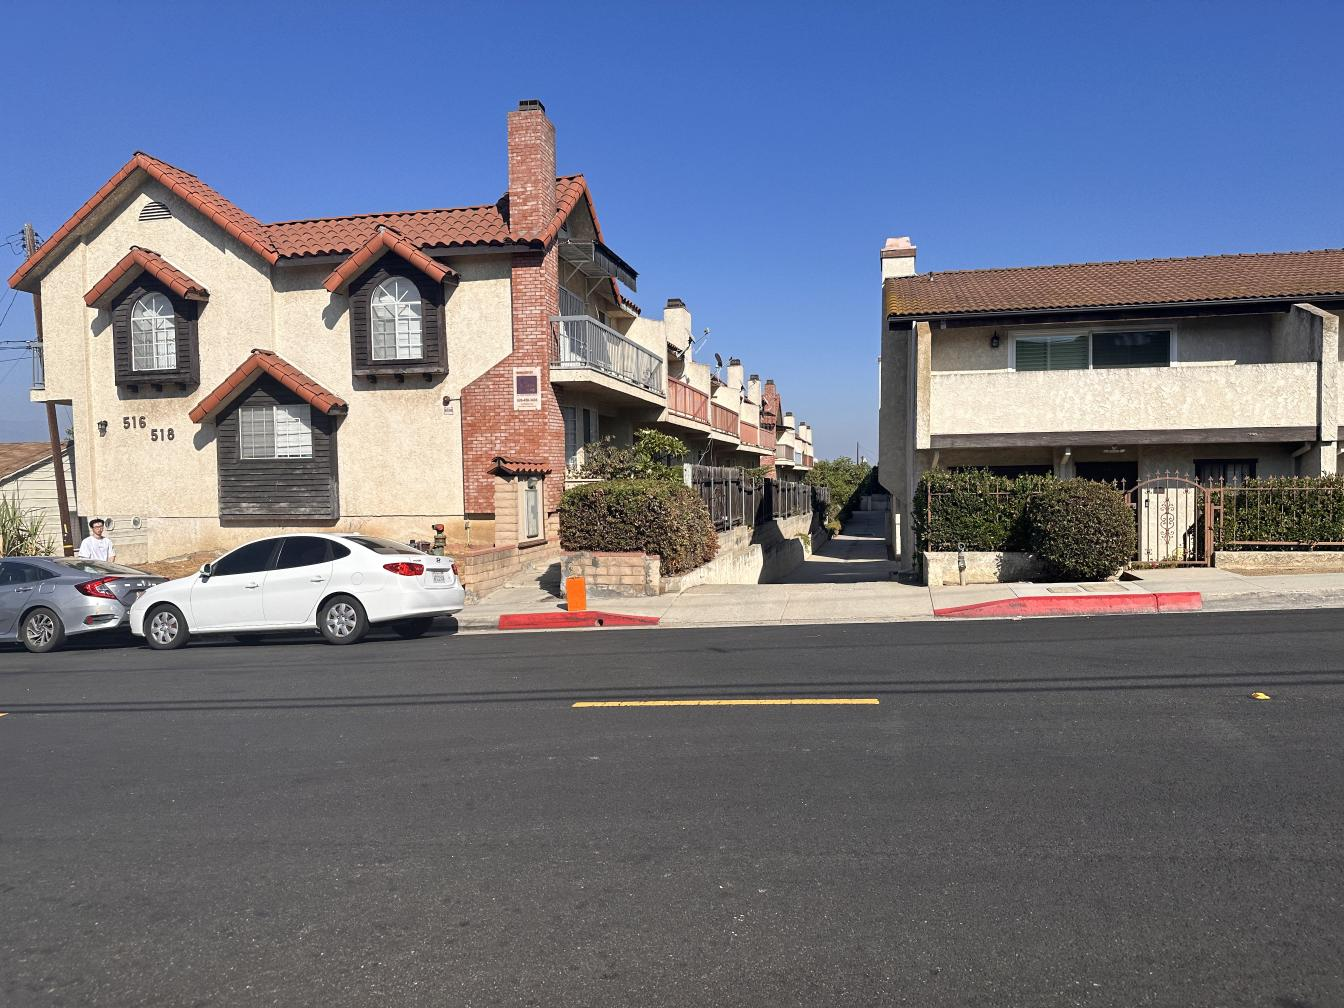curbs-laRr: (1204, 593, 1342, 611)
orange box: (564, 577, 588, 612)
